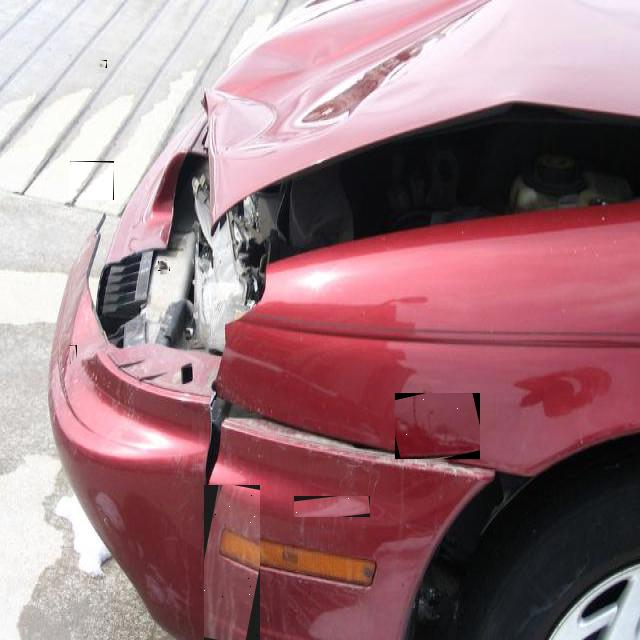Dent: (204, 485, 260, 640), (395, 394, 480, 462), (70, 161, 114, 200), (294, 496, 370, 517), (158, 262, 170, 274), (70, 345, 77, 364), (100, 60, 107, 68)
